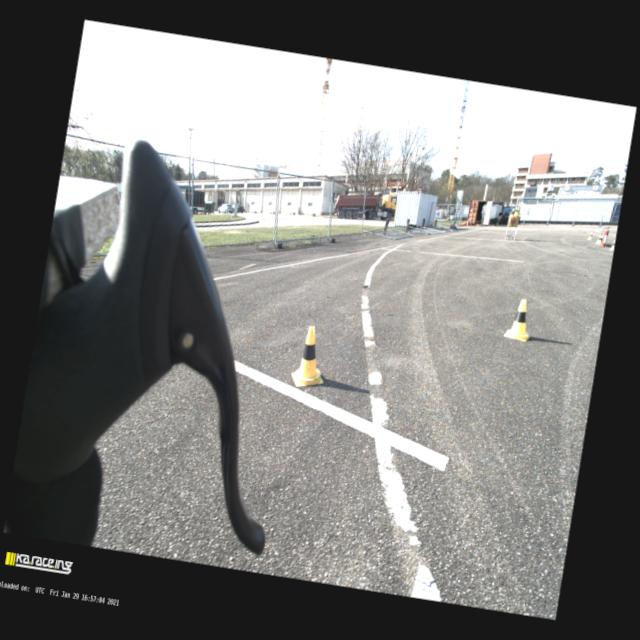yellow_cone: (290, 324, 332, 390), (504, 297, 536, 342), (610, 239, 616, 251), (596, 235, 602, 244), (509, 208, 515, 217), (588, 232, 594, 240), (516, 207, 520, 216), (600, 236, 604, 244), (514, 207, 518, 215)
